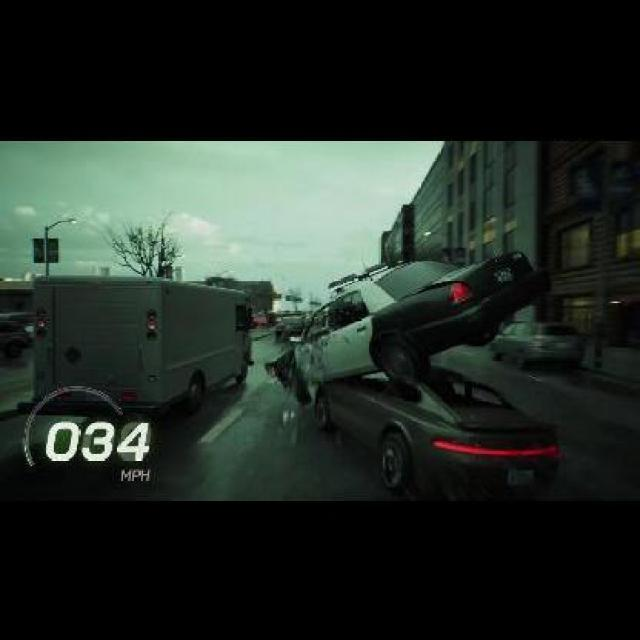accident: (258, 237, 572, 498)
